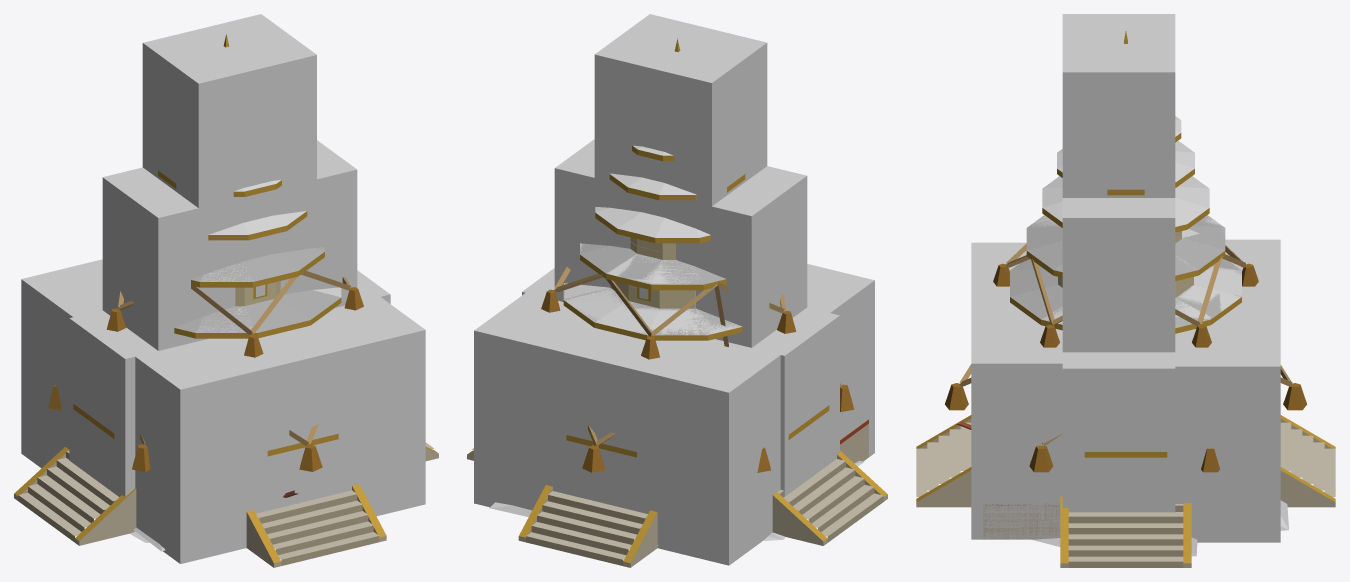
Rendered from lm_sevenfold_temple.glb.
3 renders of one model, left to right at view 1: azimuth 30°, elevation 25°; view 2: azimuth 150°, elevation 25°; view 3: azimuth 270°, elevation 25°, orthographic.
Parts seen in each view (by area): view 1: chunk_00, damaged, chunk_01, chunk_08, chunk_06, chunk_02, chunk_04, chunk_09, chunk_07, intact, chunk_03; view 2: chunk_04, chunk_05, damaged, chunk_08, intact, chunk_06, chunk_02, chunk_09, chunk_07, chunk_00; view 3: damaged, chunk_05, chunk_01, chunk_03, chunk_07, chunk_09, intact, chunk_08, chunk_04, chunk_00, rubble.
Boxes of the visible parts, x1,y1,x2,y2 form: chunk_00: (135,333,313,563); damaged: (14,247,438,567); chunk_01: (280,297,425,516); chunk_08: (142,26,267,207); chunk_06: (102,167,267,350); chunk_02: (69,310,157,511); chunk_04: (21,259,102,468); chunk_09: (213,14,316,188); chunk_07: (268,140,357,307); intact: (18,34,433,544); chunk_03: (357,270,390,303); chunk_04: (591,335,780,565); chunk_05: (474,293,623,510); damaged: (467,241,887,567); chunk_08: (643,26,767,206); intact: (467,38,885,565); chunk_06: (643,166,807,347); chunk_02: (752,307,839,511); chunk_09: (594,14,697,182); chunk_07: (554,139,642,301); chunk_00: (807,264,874,456); damaged: (916,215,1335,567); chunk_05: (1175,308,1280,542); chunk_01: (971,308,1062,539); chunk_03: (1062,352,1175,512); chunk_07: (1062,198,1175,352); chunk_09: (1062,48,1175,197); intact: (945,31,1335,567); chunk_08: (1062,14,1175,48); chunk_04: (1225,239,1280,308); chunk_00: (971,242,1026,308); rubble: (956,421,1291,556).
Size of the model in its own units: 44 by 52 by 44.
